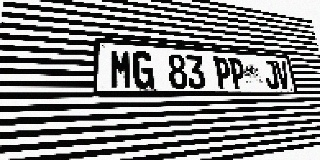3: (186, 55, 206, 89)
8: (167, 53, 188, 89)
G: (132, 51, 154, 89)
J: (262, 60, 280, 89)
M: (110, 49, 133, 89)
P: (213, 57, 232, 89), (228, 58, 247, 89)
V: (274, 61, 291, 89)
